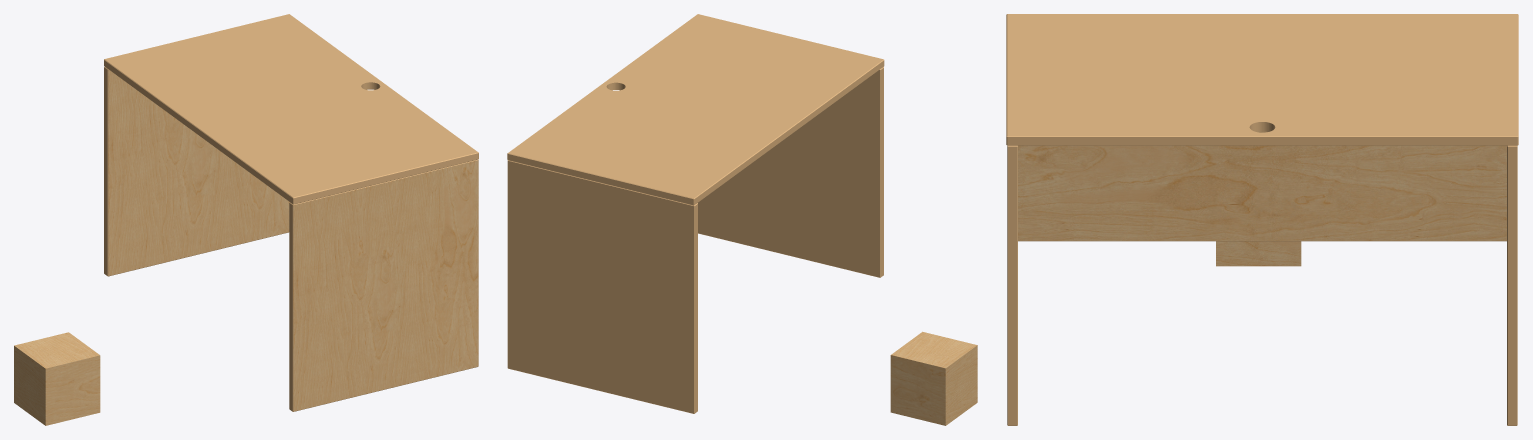
File: Desk_wood04.fbx
The picture shows the model from 3 angles, left to right: view 1: azimuth 30°, elevation 25°; view 2: azimuth 150°, elevation 25°; view 3: azimuth 270°, elevation 25°; orthographic projection. The views are drawn at different scales.
Visible parts, largest first — view 1: Desk, Cube; view 2: Desk, Cube; view 3: Desk, Cube.
Part boxes in pixels (bbox=[...]): Desk: bbox=[104, 14, 478, 411]; Cube: bbox=[14, 332, 100, 425]; Desk: bbox=[507, 14, 884, 413]; Cube: bbox=[890, 331, 977, 425]; Desk: bbox=[1006, 14, 1518, 425]; Cube: bbox=[1216, 241, 1301, 266].
Size of the model in its own units: 1301 by 850 by 1200.
1 material, 1 textured.
